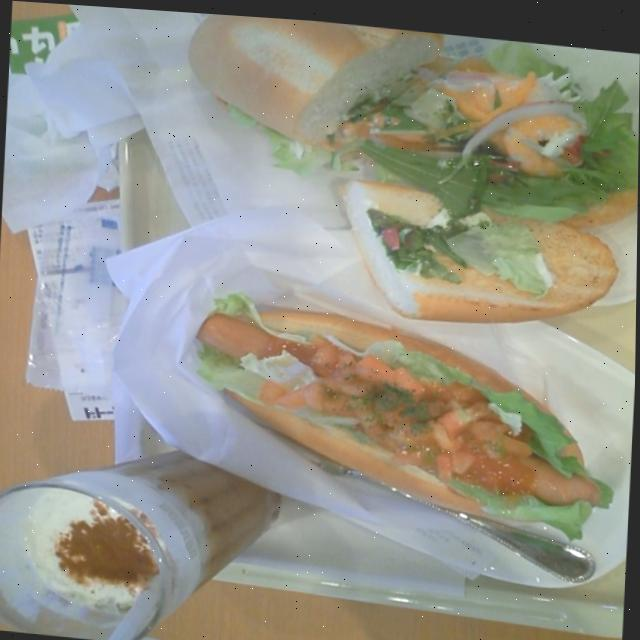三明治: (167, 9, 640, 327)
汉堡快餐: (165, 268, 617, 548)
